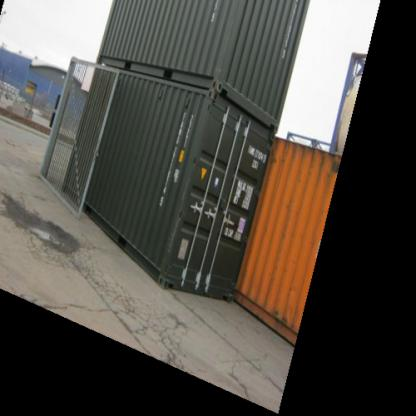Damage: (164, 196, 183, 252)
